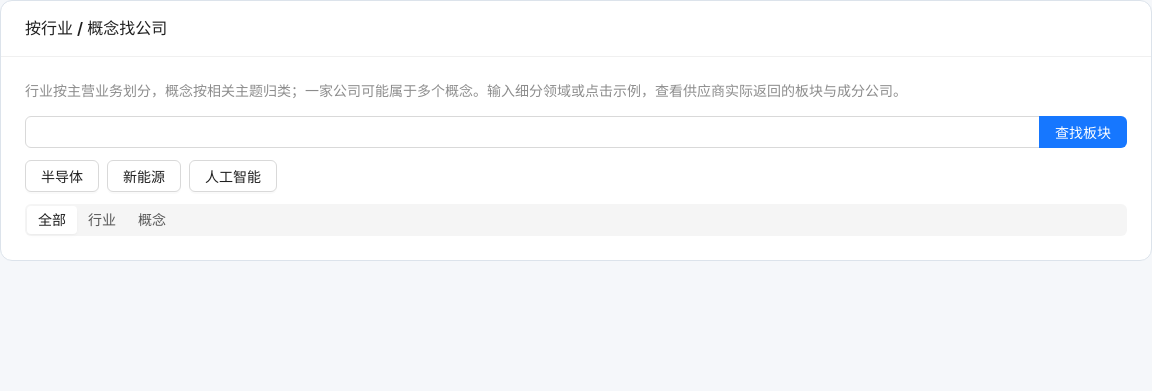
Scenario: DiscoverThemes：板块检索状态按关键词作用域（VS-39） › 在途时点另一个快捷词（按钮不受 loading 门控）⇒ 迟到的失败不得挂到新词上
Click the button "半导体": coordinates (62, 176) [25,160,99,192]
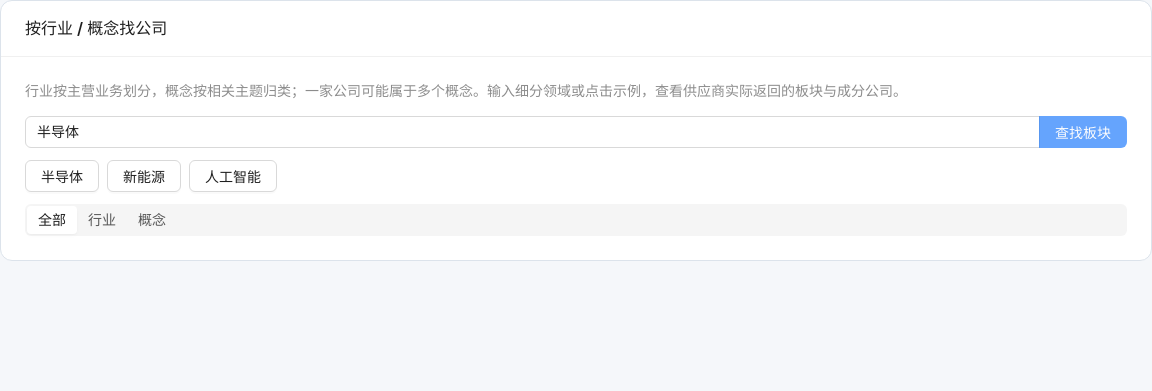
Click the button "新能源": coordinates (144, 176) [107,160,181,192]
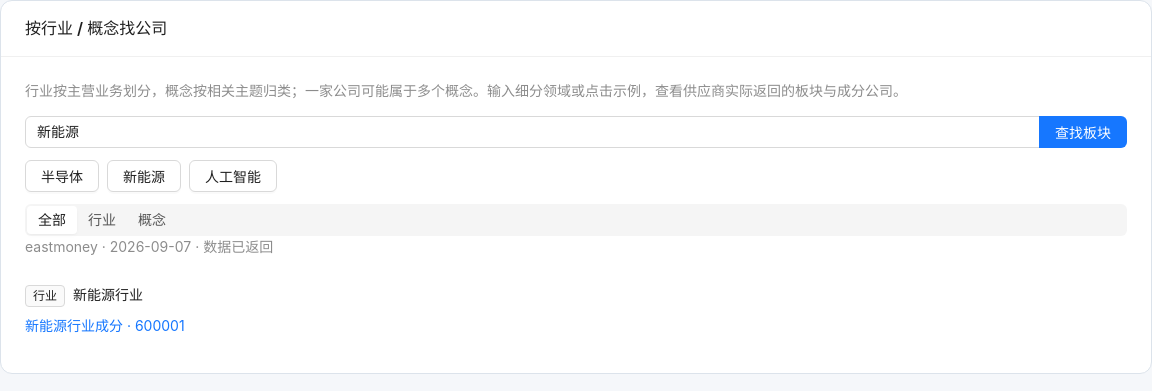
Expected: the link "新能源行业成分 · 600001" is shown, [25,317,185,334]
